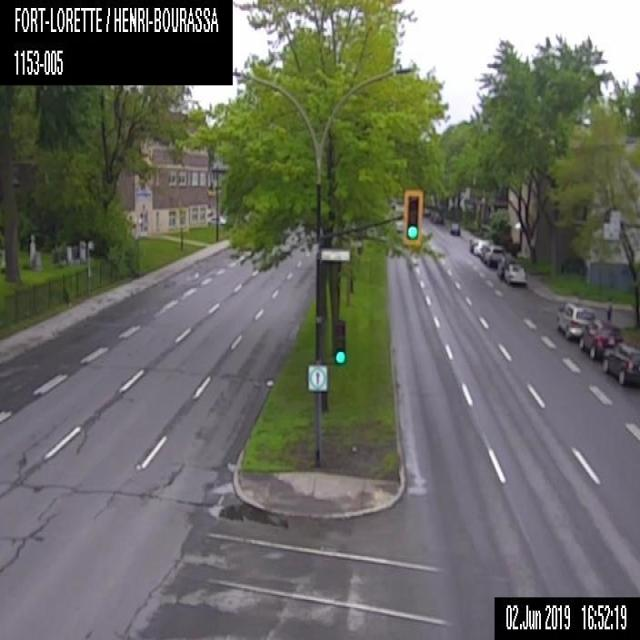vehicle: (581, 316, 622, 358), (603, 342, 639, 389), (556, 300, 598, 340), (505, 263, 526, 285), (484, 244, 504, 267), (498, 255, 518, 278), (473, 240, 492, 257), (469, 238, 480, 254), (448, 221, 459, 235), (432, 211, 442, 222), (422, 206, 430, 216)
